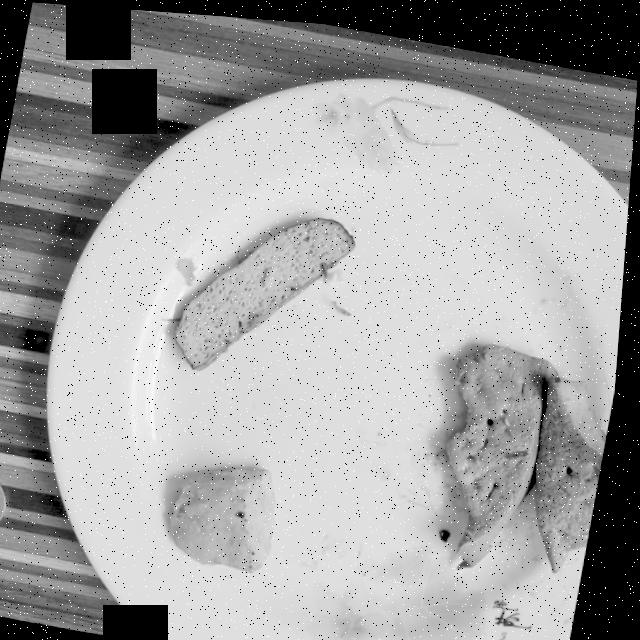coin: (0, 477, 14, 526)
firm tofu: (180, 212, 358, 365)
fried potato: (177, 463, 282, 567)
pig liver: (452, 334, 612, 562)
